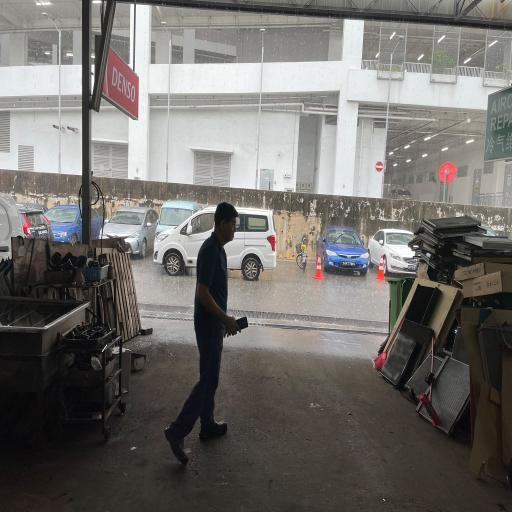person_right: (163, 202, 254, 459)
